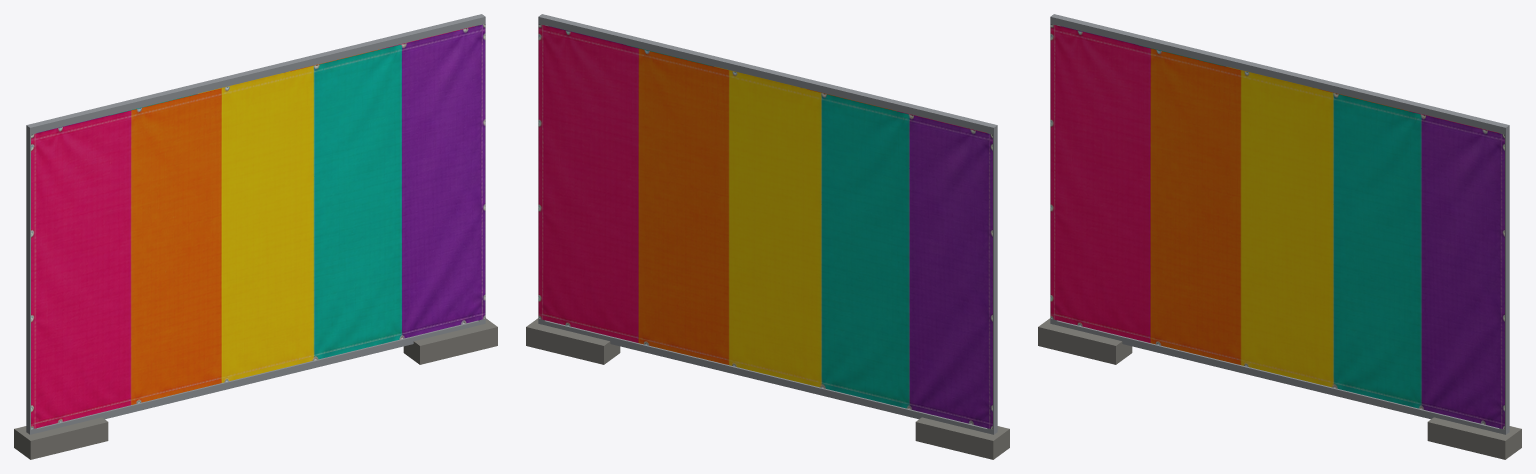
File: fest_fence_panel.glb
The picture shows the model from 3 angles, left to right: view 1: azimuth 30°, elevation 25°; view 2: azimuth 150°, elevation 25°; view 3: azimuth 330°, elevation 25°; orthographic projection.
Parts seen in each view (by area): view 1: kp_fence_panel; view 2: kp_fence_panel; view 3: kp_fence_panel.
Boxes of the visible parts, x1,y1,x2,y2 form: kp_fence_panel: (14,14,497,459); kp_fence_panel: (526,14,1009,459); kp_fence_panel: (1038,14,1521,459).
Bounding box in the file's own units: 3.6 × 2.4 × 0.22.
Materials: 2 (2 with a texture image).
